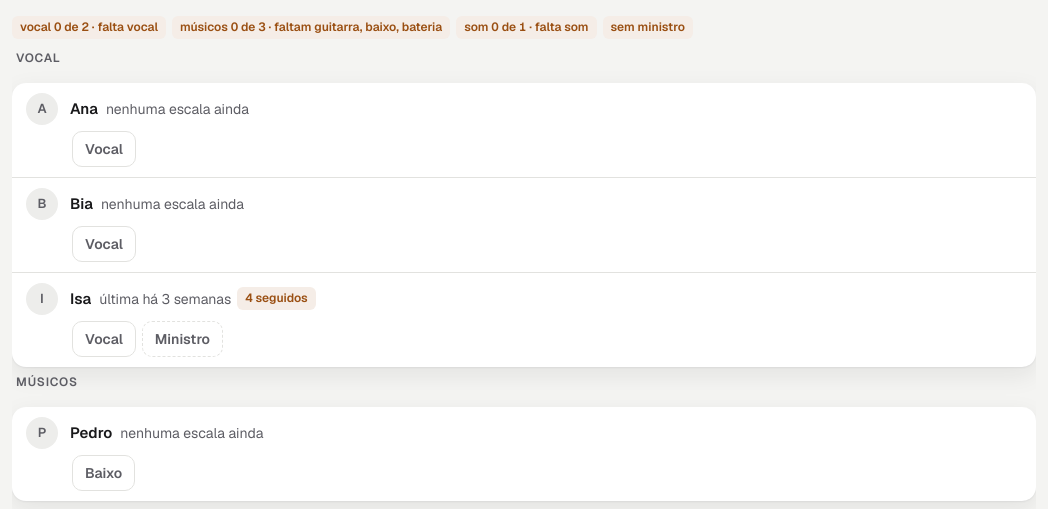
Test: resumo da Equipe › mostra quem dirige assim que a marca é dada
Expected: the text "sem ministro" is shown, [603, 16, 693, 39]
What coordinates should you click on to do the following:
click the button "Ministro"
I would click on:
 (182, 339)
Its box is [142, 321, 223, 357].
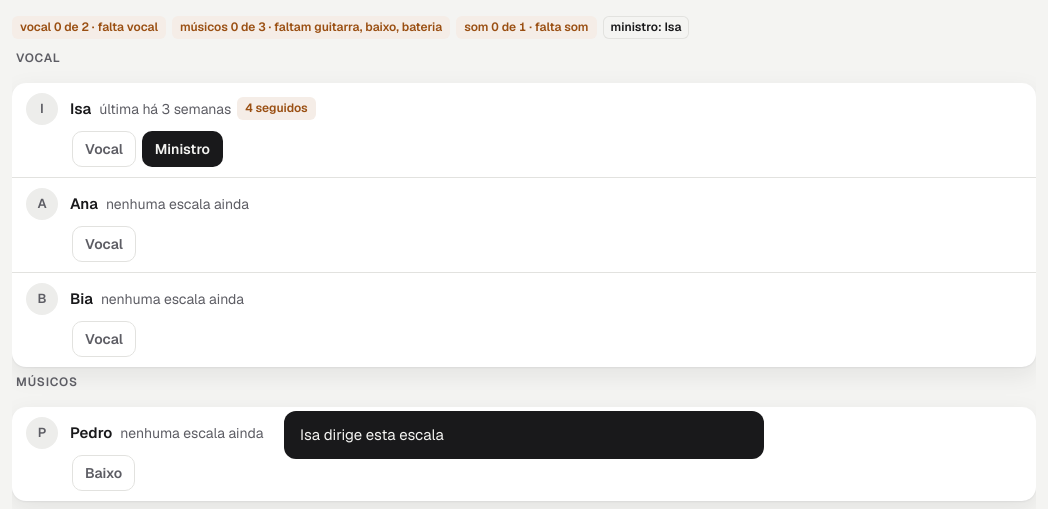
Expected: the text "ministro: Isa" is shown, [603, 16, 689, 39]
